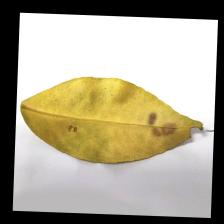canker: (57, 104, 210, 146)
